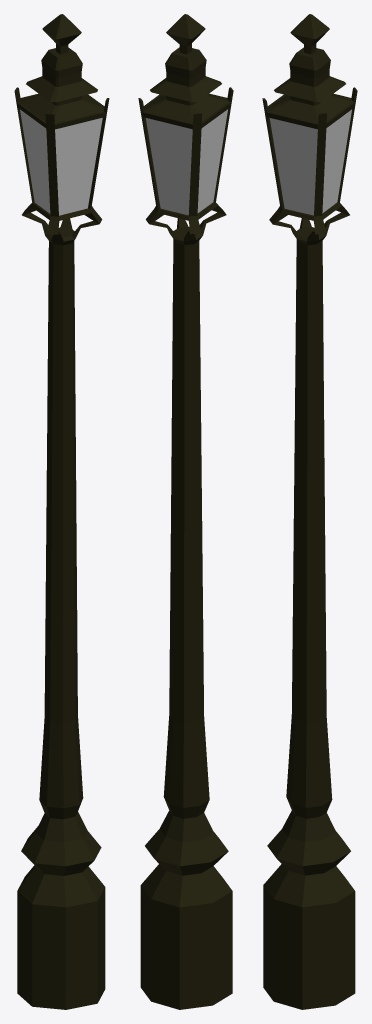
The model's file is lampPost1Single.fbx.
The picture shows the model from 3 angles, left to right: view 1: azimuth 30°, elevation 25°; view 2: azimuth 150°, elevation 25°; view 3: azimuth 330°, elevation 25°; orthographic projection.
Visible parts, largest first — view 1: Post3R2 - Done; view 2: Post3R2 - Done; view 3: Post3R2 - Done.
Boxes of the visible parts, x1,y1,x2,y2 form: Post3R2 - Done: [14, 14, 109, 1009]; Post3R2 - Done: [138, 14, 233, 1009]; Post3R2 - Done: [262, 14, 357, 1009].
Bounding box in the file's own units: 47.36 × 588 × 47.36.
